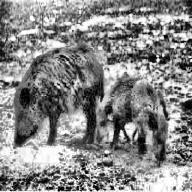boar: (12, 42, 102, 169), (128, 74, 176, 166), (90, 66, 144, 143)
